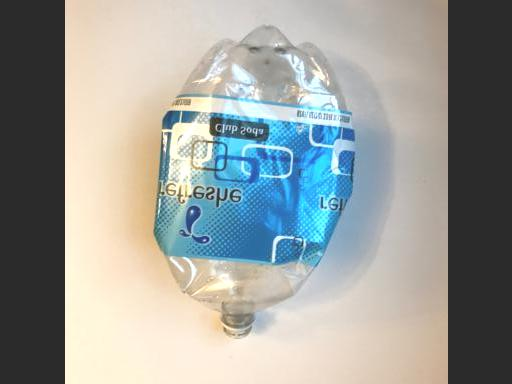bottle: (131, 16, 367, 359)
